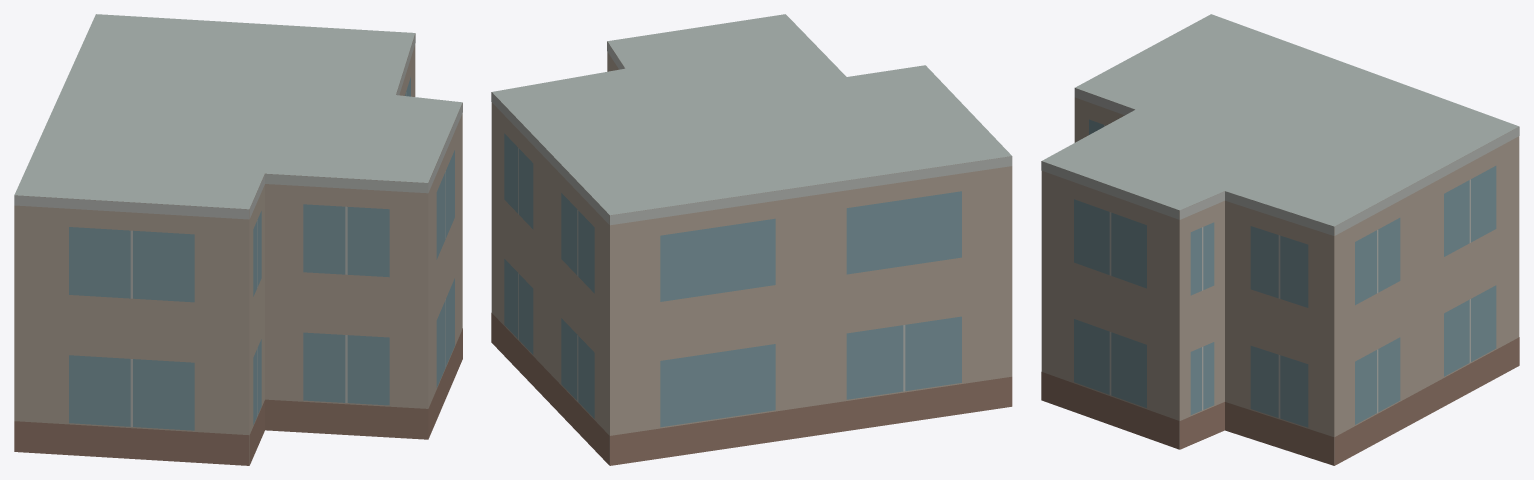
The model's file is survey-upis-32702481.glb.
The picture shows the model from 3 angles, left to right: view 1: azimuth 30°, elevation 25°; view 2: azimuth 150°, elevation 25°; view 3: azimuth 270°, elevation 25°; orthographic projection. The views are drawn at different scales.
Parts seen in each view (by area): view 1: survey-upis-32702481.tmp; view 2: survey-upis-32702481.tmp; view 3: survey-upis-32702481.tmp.
Part boxes in pixels (left/top/right/bottom): survey-upis-32702481.tmp: left=14, top=14, right=462, bottom=465; survey-upis-32702481.tmp: left=491, top=14, right=1012, bottom=465; survey-upis-32702481.tmp: left=1041, top=14, right=1519, bottom=465.
Size of the model in its own units: 11.63 by 6.1 by 11.05.
